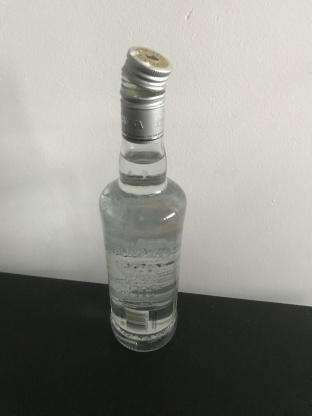nakretka: (118, 43, 173, 143)
